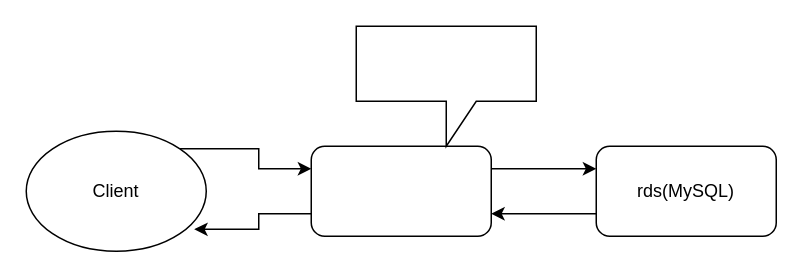
This 803x278 diagram has some shape labels left out. The shapes that lost their labels are listed below. From the top down, each one's box as (x1, y1, x2, y2) in pixels, then its label:
(355, 25, 536, 146): Flask
(310, 145, 491, 236): EC2
